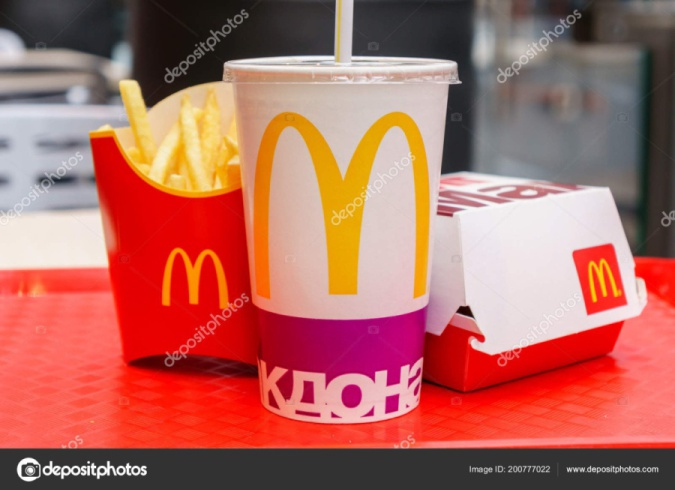mcdonalds: (246, 106, 434, 303), (160, 243, 237, 318), (584, 255, 621, 307)
